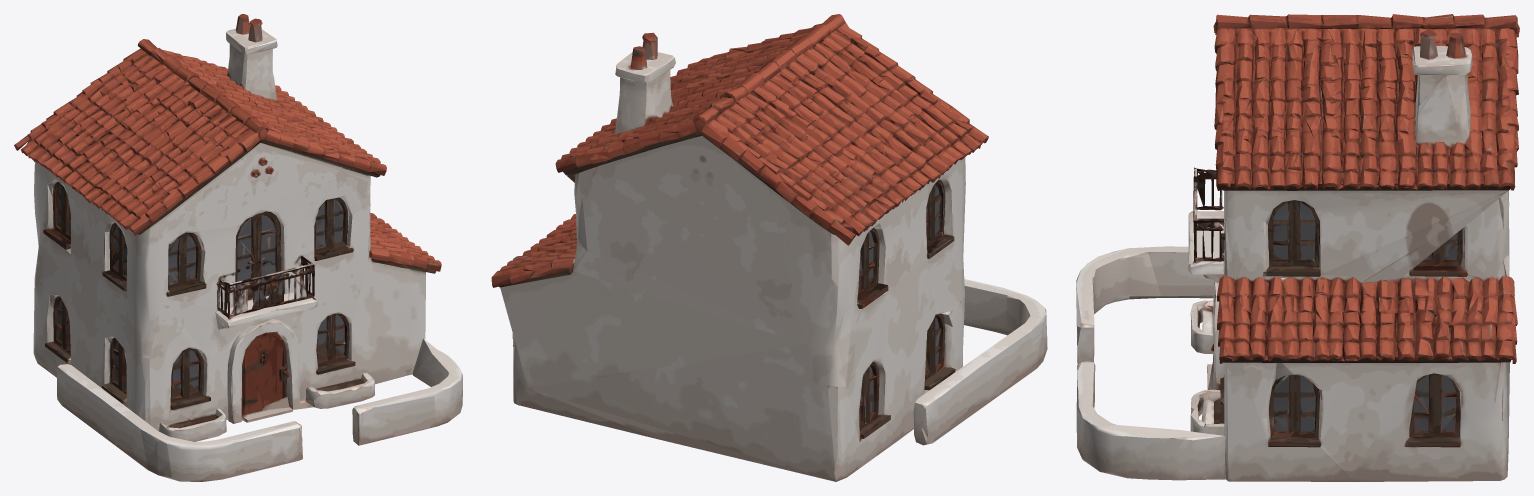
Rendered from jesse-house.glb.
3 renders of one model, left to right at view 1: azimuth 30°, elevation 25°; view 2: azimuth 150°, elevation 25°; view 3: azimuth 270°, elevation 25°, orthographic. The views are drawn at different scales.
Parts seen in each view (by area): view 1: placed; view 2: placed; view 3: placed.
Boxes of the visible parts, x1=… form: placed: x1=14, y1=14, x2=462, y2=481; placed: x1=491, y1=14, x2=1047, y2=481; placed: x1=1076, y1=14, x2=1519, y2=481.
Bounding box in the file's own units: 14 × 12.97 × 13.23.
Materials: 1 (1 with a texture image).
